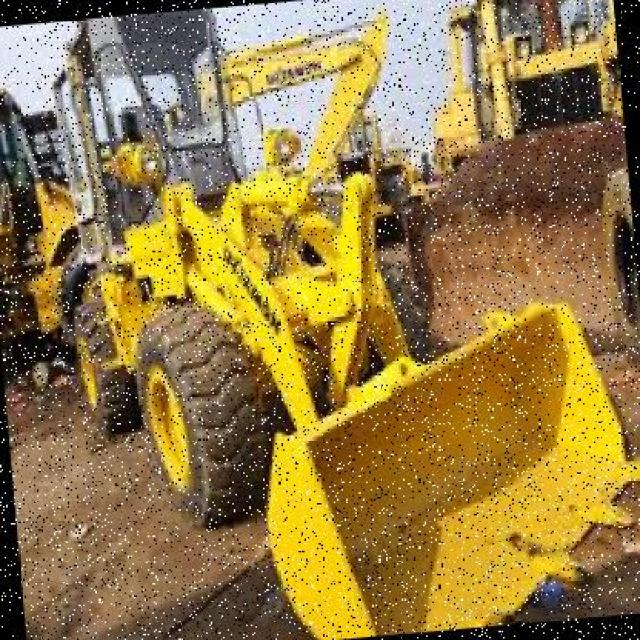bull_dozer/loader/grader: (15, 0, 640, 640)
